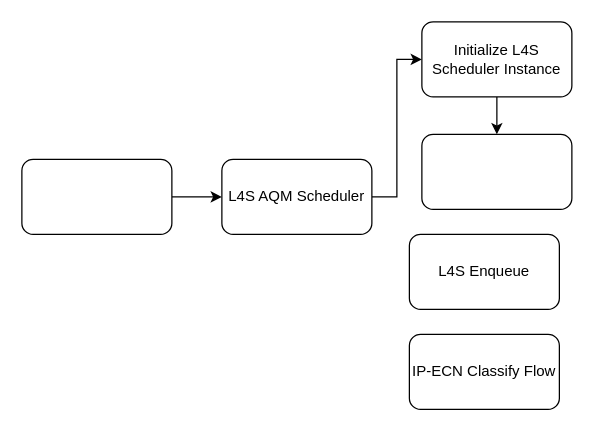
This 594x431 diagram has some shape labels left out. Each missing label, with the centre of its shape:
Get L4S Configuration: [496,171]
Network Environment: [96,196]
